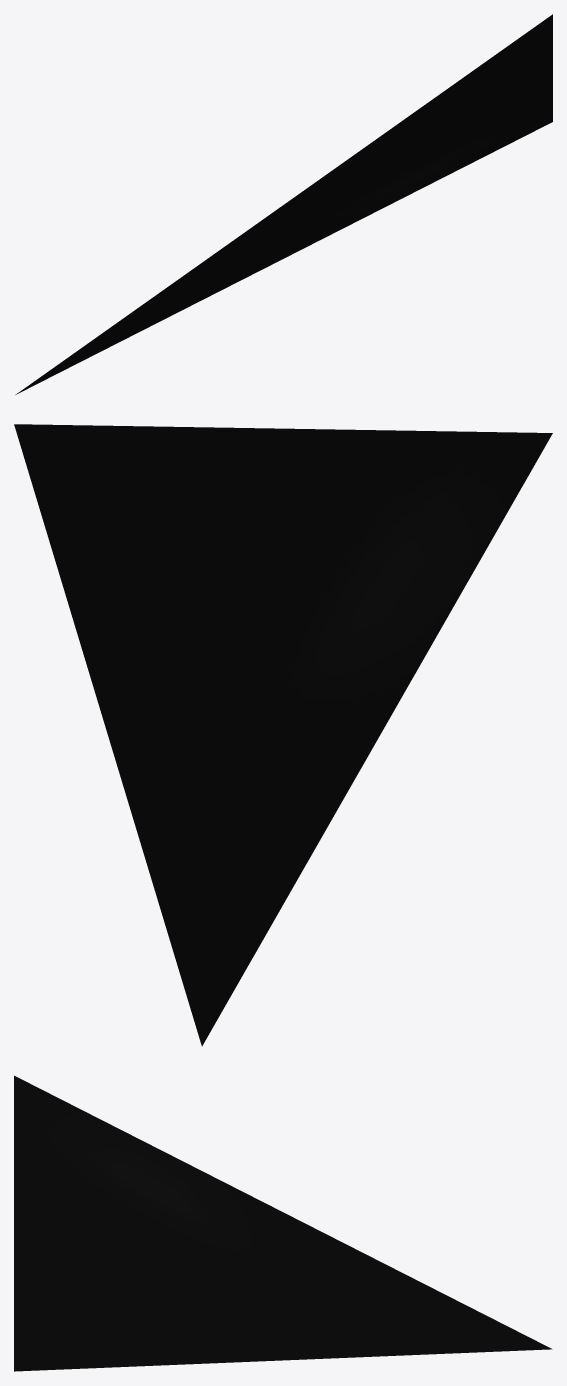
3 renders of one model, top to bottom at view 1: azimuth 90°, elevation 25°; view 2: azimuth 150°, elevation 25°; view 3: azimuth 270°, elevation 25°, orthographic. The views are drawn at different scales.
Bounding box in the file's own units: 0.1094 × 0.0692 × 0.1234.
1 material, 1 textured.
